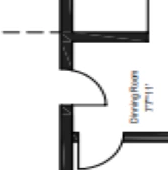door: (53, 65, 113, 116), (72, 125, 128, 170)
